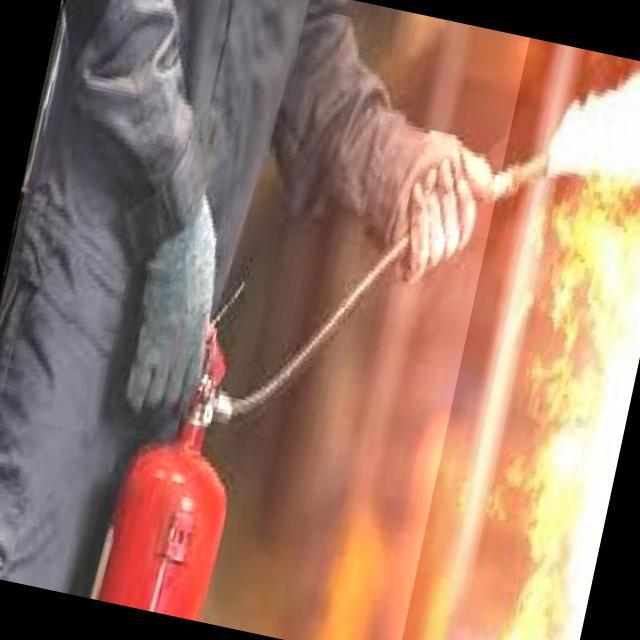Gloves: (105, 208, 246, 447), (360, 98, 511, 288)
